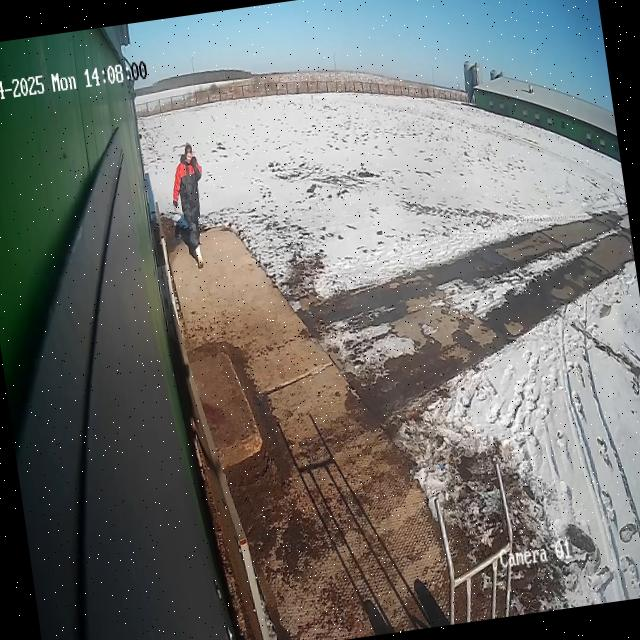Red uniform: (173, 143, 203, 268)
